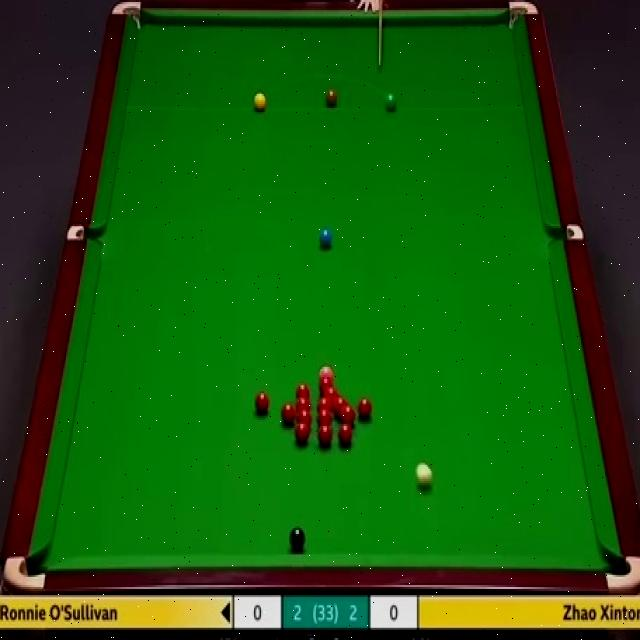black-ball: (288, 524, 306, 549)
blue-ball: (318, 229, 333, 247)
brown-ball: (326, 90, 337, 108)
green-ball: (383, 90, 398, 113)
pink-ball: (318, 370, 335, 385)
red-ball: (253, 391, 270, 414), (282, 401, 296, 427), (294, 422, 310, 444), (341, 404, 356, 425), (339, 424, 352, 448), (332, 394, 347, 414), (358, 398, 372, 419), (322, 385, 337, 404), (295, 396, 310, 415), (318, 425, 332, 444), (297, 409, 311, 428), (296, 384, 310, 402), (319, 409, 331, 427)
white-ball: (416, 459, 433, 489)
yellow-ball: (254, 92, 266, 112)
